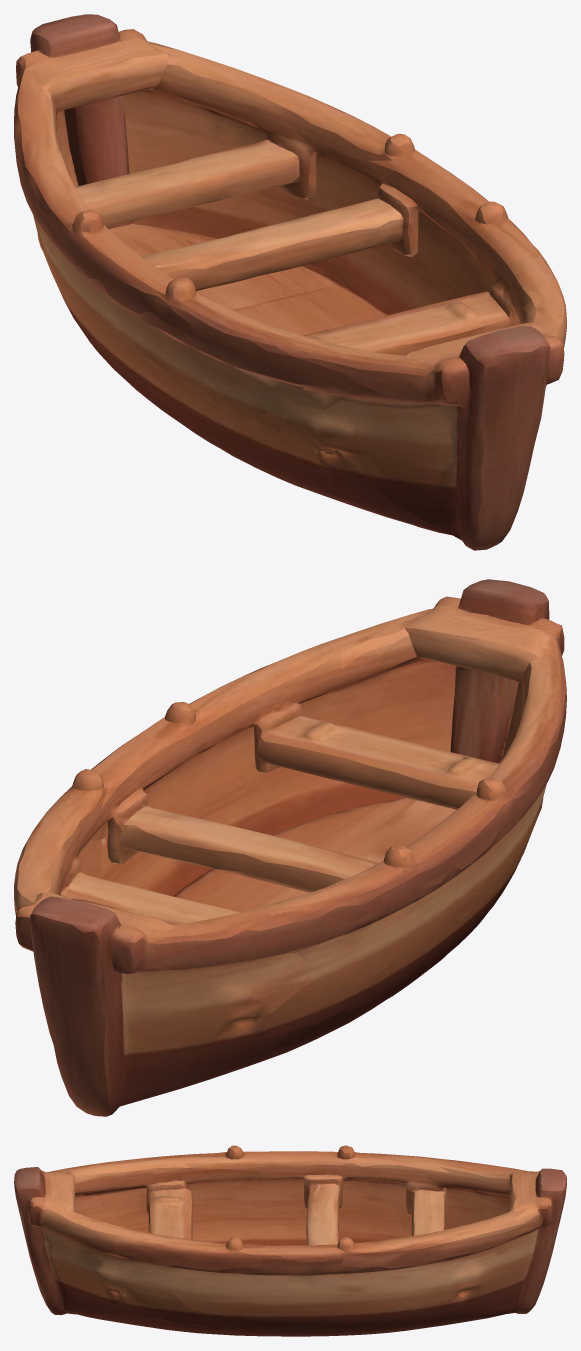
Rendered from a-small-wooden-rowing-boat-with-2bd238.glb.
3 views of the same model, one above another, from view 1: azimuth 30°, elevation 25°; view 2: azimuth 150°, elevation 25°; view 3: azimuth 270°, elevation 25° (orthographic). The views are drawn at different scales.
Parts seen in each view (by area): view 1: geometry_0; view 2: geometry_0; view 3: geometry_0.
Boxes of the visible parts, x1=… form: geometry_0: x1=14, y1=14, x2=566, y2=550; geometry_0: x1=14, y1=579, x2=566, y2=1116; geometry_0: x1=14, y1=1145, x2=566, y2=1336.
Size of the model in its own units: 0.4474 by 0.2911 by 1.
Materials: 1 (1 with a texture image).
